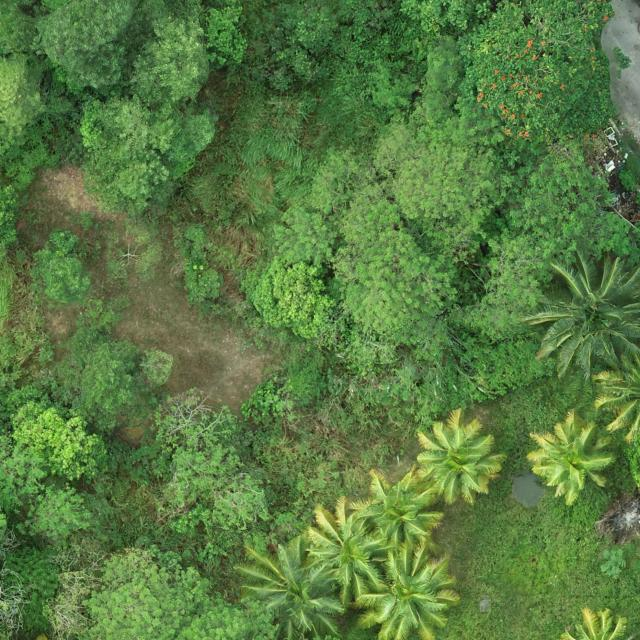Tree: (271, 115, 632, 353), (29, 543, 398, 640), (456, 0, 615, 156), (150, 386, 270, 538), (77, 93, 218, 216), (518, 244, 640, 384), (231, 533, 348, 640), (302, 496, 396, 610), (358, 539, 463, 640), (413, 406, 509, 508), (524, 408, 618, 507), (346, 466, 444, 558), (7, 402, 110, 481), (14, 480, 98, 548), (592, 331, 640, 444), (0, 434, 49, 512), (553, 606, 640, 640)
